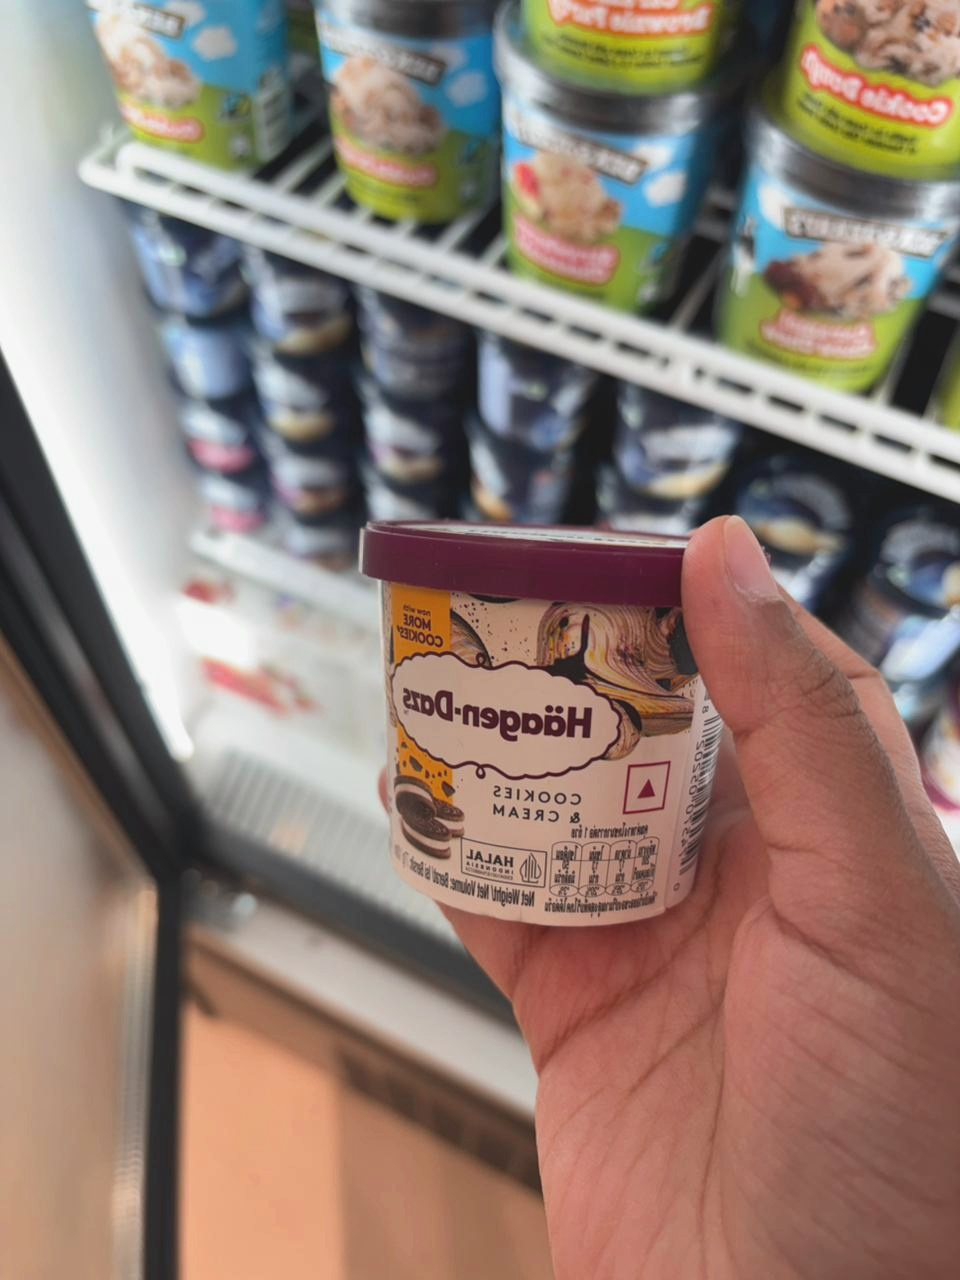Haagen-Dazs IceCream Tub: (320, 495, 760, 955)
